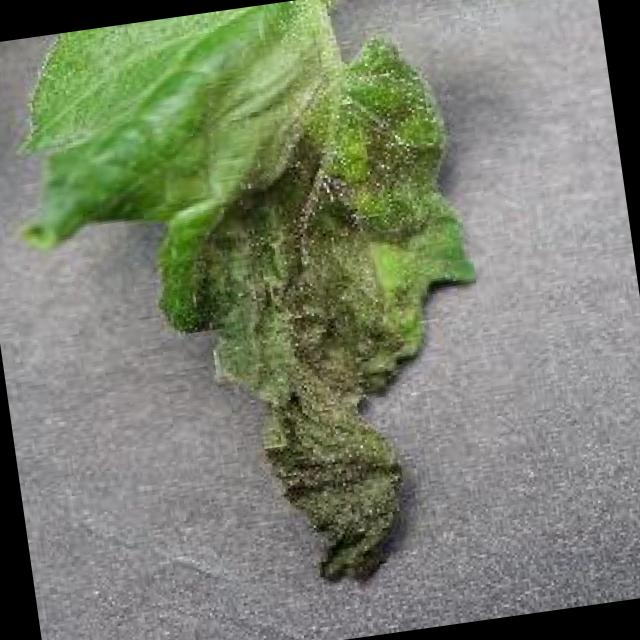Tomato_Late_Blight: (150, 55, 554, 620)
